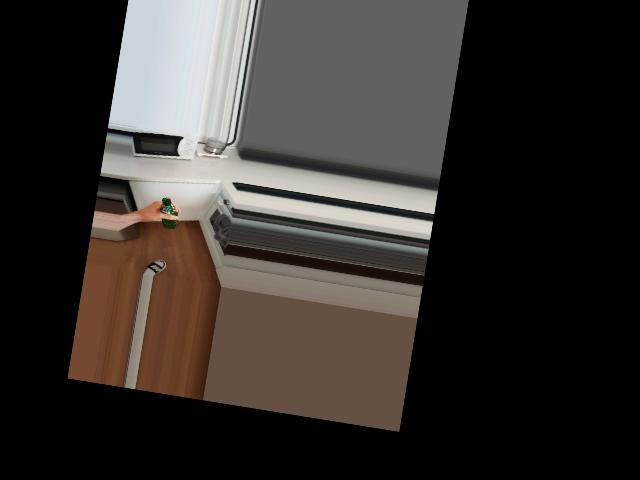beer: (157, 197, 181, 230)
